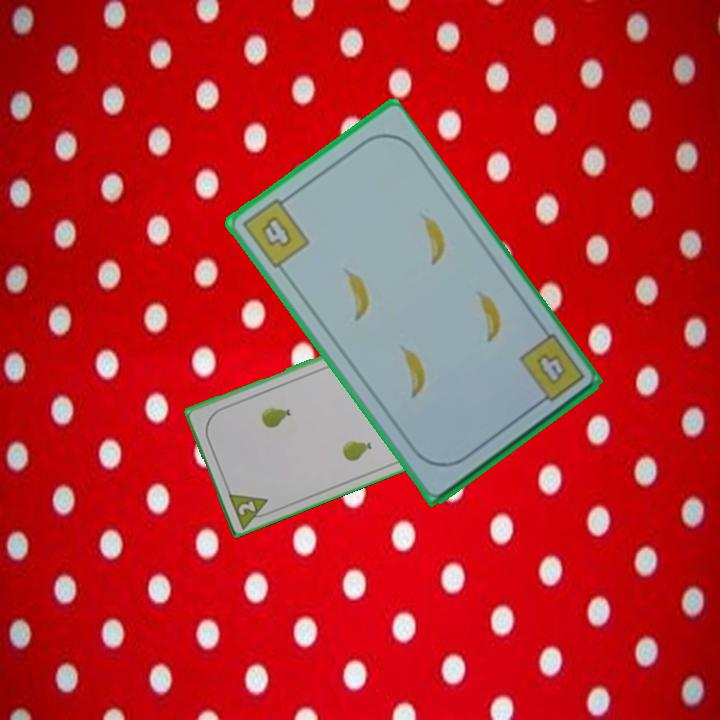2p: (224, 487, 276, 530)
4b: (238, 191, 313, 272), (515, 330, 588, 411)
